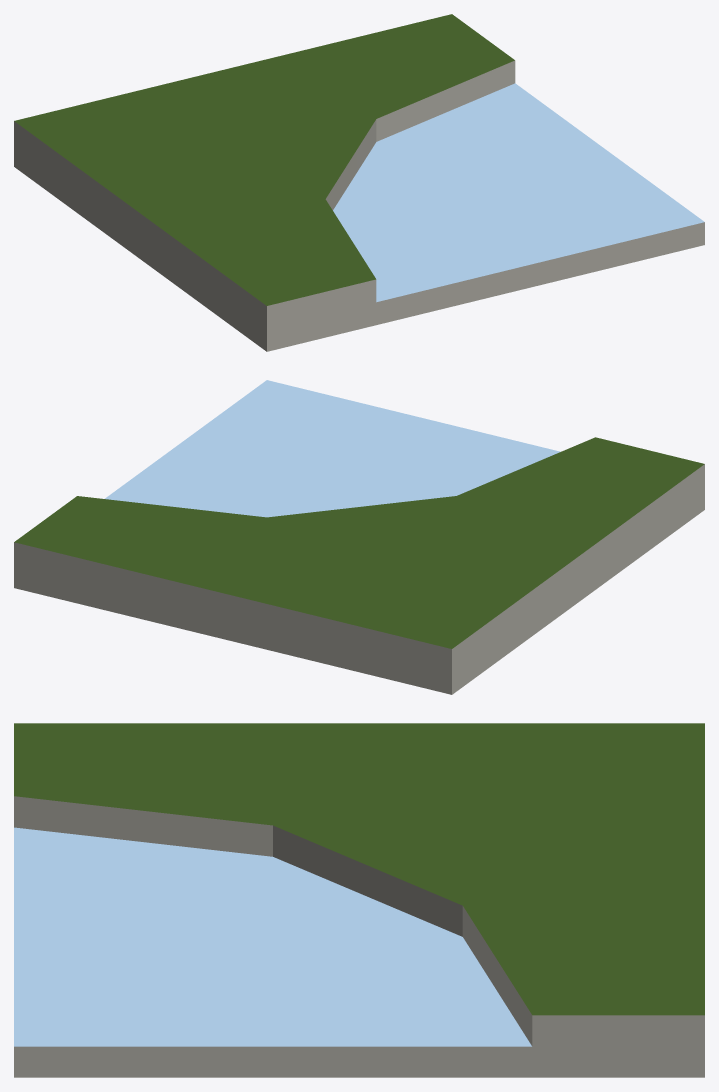
The model's file is Terrain_Modular_Tiles_Grass_Rock_Water_Edge_Corner_Outer_01.fbx.
3 views of the same model, one above another, from view 1: azimuth 30°, elevation 25°; view 2: azimuth 150°, elevation 25°; view 3: azimuth 270°, elevation 25° (orthographic). The views are drawn at different scales.
Visible parts, largest first — view 1: Terrain_Modular_Tiles_Grass_Rock_Water_Edge_Corner_Outer_01; view 2: Terrain_Modular_Tiles_Grass_Rock_Water_Edge_Corner_Outer_01; view 3: Terrain_Modular_Tiles_Grass_Rock_Water_Edge_Corner_Outer_01.
Part boxes in pixels (left/top/right/bottom): Terrain_Modular_Tiles_Grass_Rock_Water_Edge_Corner_Outer_01: left=14, top=14, right=704, bottom=351; Terrain_Modular_Tiles_Grass_Rock_Water_Edge_Corner_Outer_01: left=14, top=380, right=704, bottom=694; Terrain_Modular_Tiles_Grass_Rock_Water_Edge_Corner_Outer_01: left=14, top=723, right=704, bottom=1077.
Bounding box in the file's own units: 118 × 11.81 × 118.
